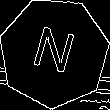N_S: (29, 23, 80, 83)
